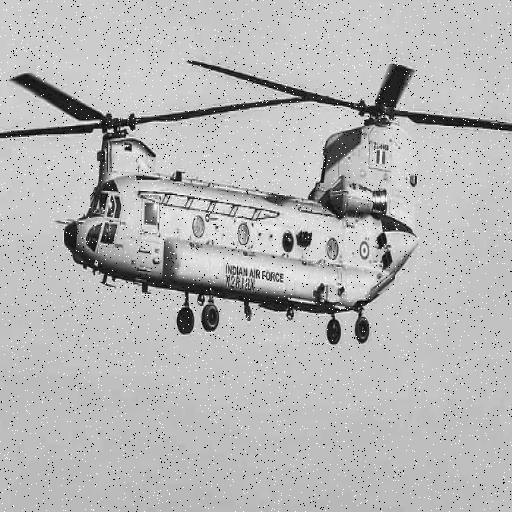helicopter: (1, 65, 512, 345)
